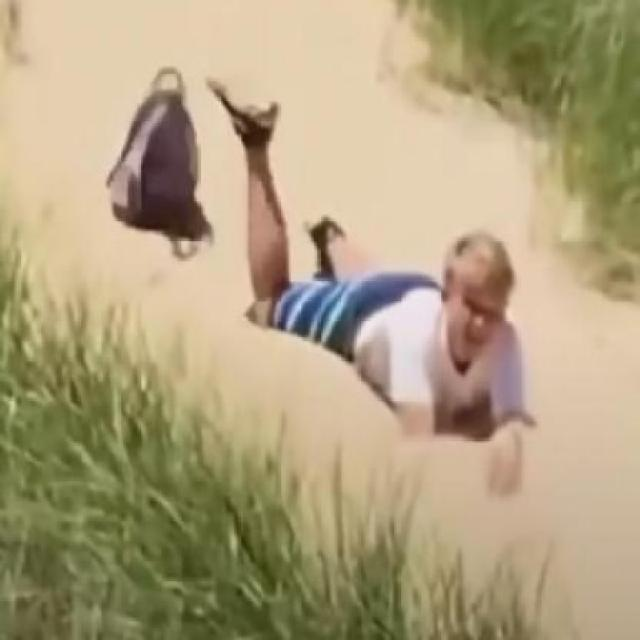fall: (206, 72, 534, 496)
